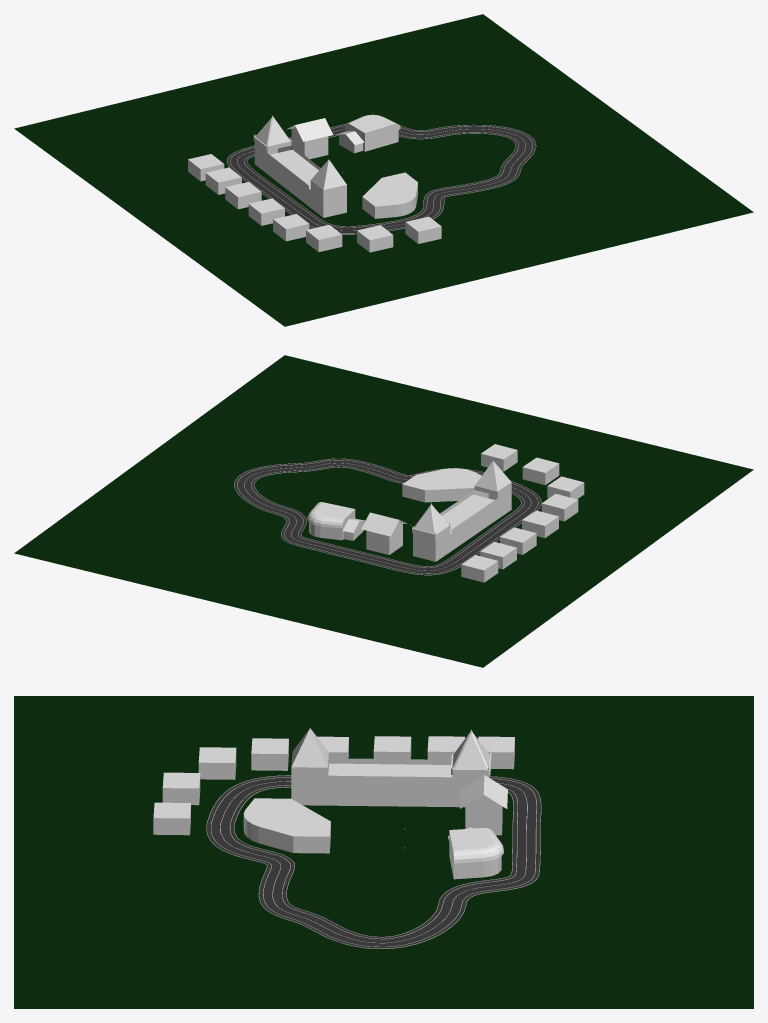
Rendered from SityTest.fbx.
3 views of the same model, one above another, from view 1: azimuth 30°, elevation 25°; view 2: azimuth 150°, elevation 25°; view 3: azimuth 270°, elevation 25° (orthographic). The views are drawn at different scales.
Parts seen in each view (by area): view 1: Плоскость, MainRoad, Куб.011, Куб.012, Куб.002, Куб.015, Куб.014, Куб.008, Куб.009, Куб.010, Куб.007, Куб.003 (+3 smaller); view 2: Плоскость, MainRoad, Куб.011, Куб.012, Куб.002, Куб.015, Куб.014, Куб.005, Куб.009, Куб.006, Куб.007, Куб.010 (+3 smaller); view 3: Плоскость, MainRoad, Куб.002, Куб.011, Куб.012, Куб.015, Куб.014, Куб.008, Куб.007, Куб.010, Куб.009, Куб.005 (+3 smaller).
Boxes of the visible parts, left/top/right/bottom form: Плоскость: left=14, top=14, right=753, bottom=326; MainRoad: left=227, top=123, right=536, bottom=234; Куб.011: left=253, top=115, right=346, bottom=217; Куб.012: left=362, top=172, right=417, bottom=218; Куб.002: left=266, top=146, right=320, bottom=207; Куб.015: left=336, top=114, right=400, bottom=153; Куб.014: left=287, top=118, right=333, bottom=159; Куб.008: left=306, top=224, right=342, bottom=252; Куб.009: left=357, top=225, right=393, bottom=252; Куб.010: left=405, top=216, right=441, bottom=243; Куб.007: left=273, top=214, right=309, bottom=241; Куб.003: left=225, top=182, right=261, bottom=209; Плоскость: left=14, top=355, right=753, bottom=667; MainRoad: left=234, top=458, right=541, bottom=575; Куб.011: left=412, top=461, right=511, bottom=561; Куб.012: left=402, top=468, right=481, bottom=502; Куб.002: left=440, top=491, right=498, bottom=551; Куб.015: left=307, top=502, right=365, bottom=540; Куб.014: left=361, top=512, right=407, bottom=554; Куб.005: left=461, top=555, right=498, bottom=582; Куб.009: left=522, top=457, right=559, bottom=485; Куб.006: left=522, top=510, right=558, bottom=538; Куб.007: left=541, top=494, right=578, bottom=521; Куб.010: left=481, top=444, right=517, bottom=471; Плоскость: left=14, top=696, right=753, bottom=1008; MainRoad: left=206, top=775, right=541, bottom=948; Куб.002: left=328, top=758, right=452, bottom=806; Куб.011: left=291, top=728, right=491, bottom=807; Куб.012: left=243, top=798, right=330, bottom=853; Куб.015: left=448, top=827, right=503, bottom=879; Куб.014: left=460, top=775, right=507, bottom=835; Куб.008: left=198, top=747, right=236, bottom=779; Куб.007: left=251, top=738, right=288, bottom=770; Куб.010: left=153, top=802, right=190, bottom=835; Куб.009: left=162, top=772, right=200, bottom=805; Куб.005: left=478, top=736, right=514, bottom=769.
Size of the model in its own units: 291 by 37.57 by 291.
